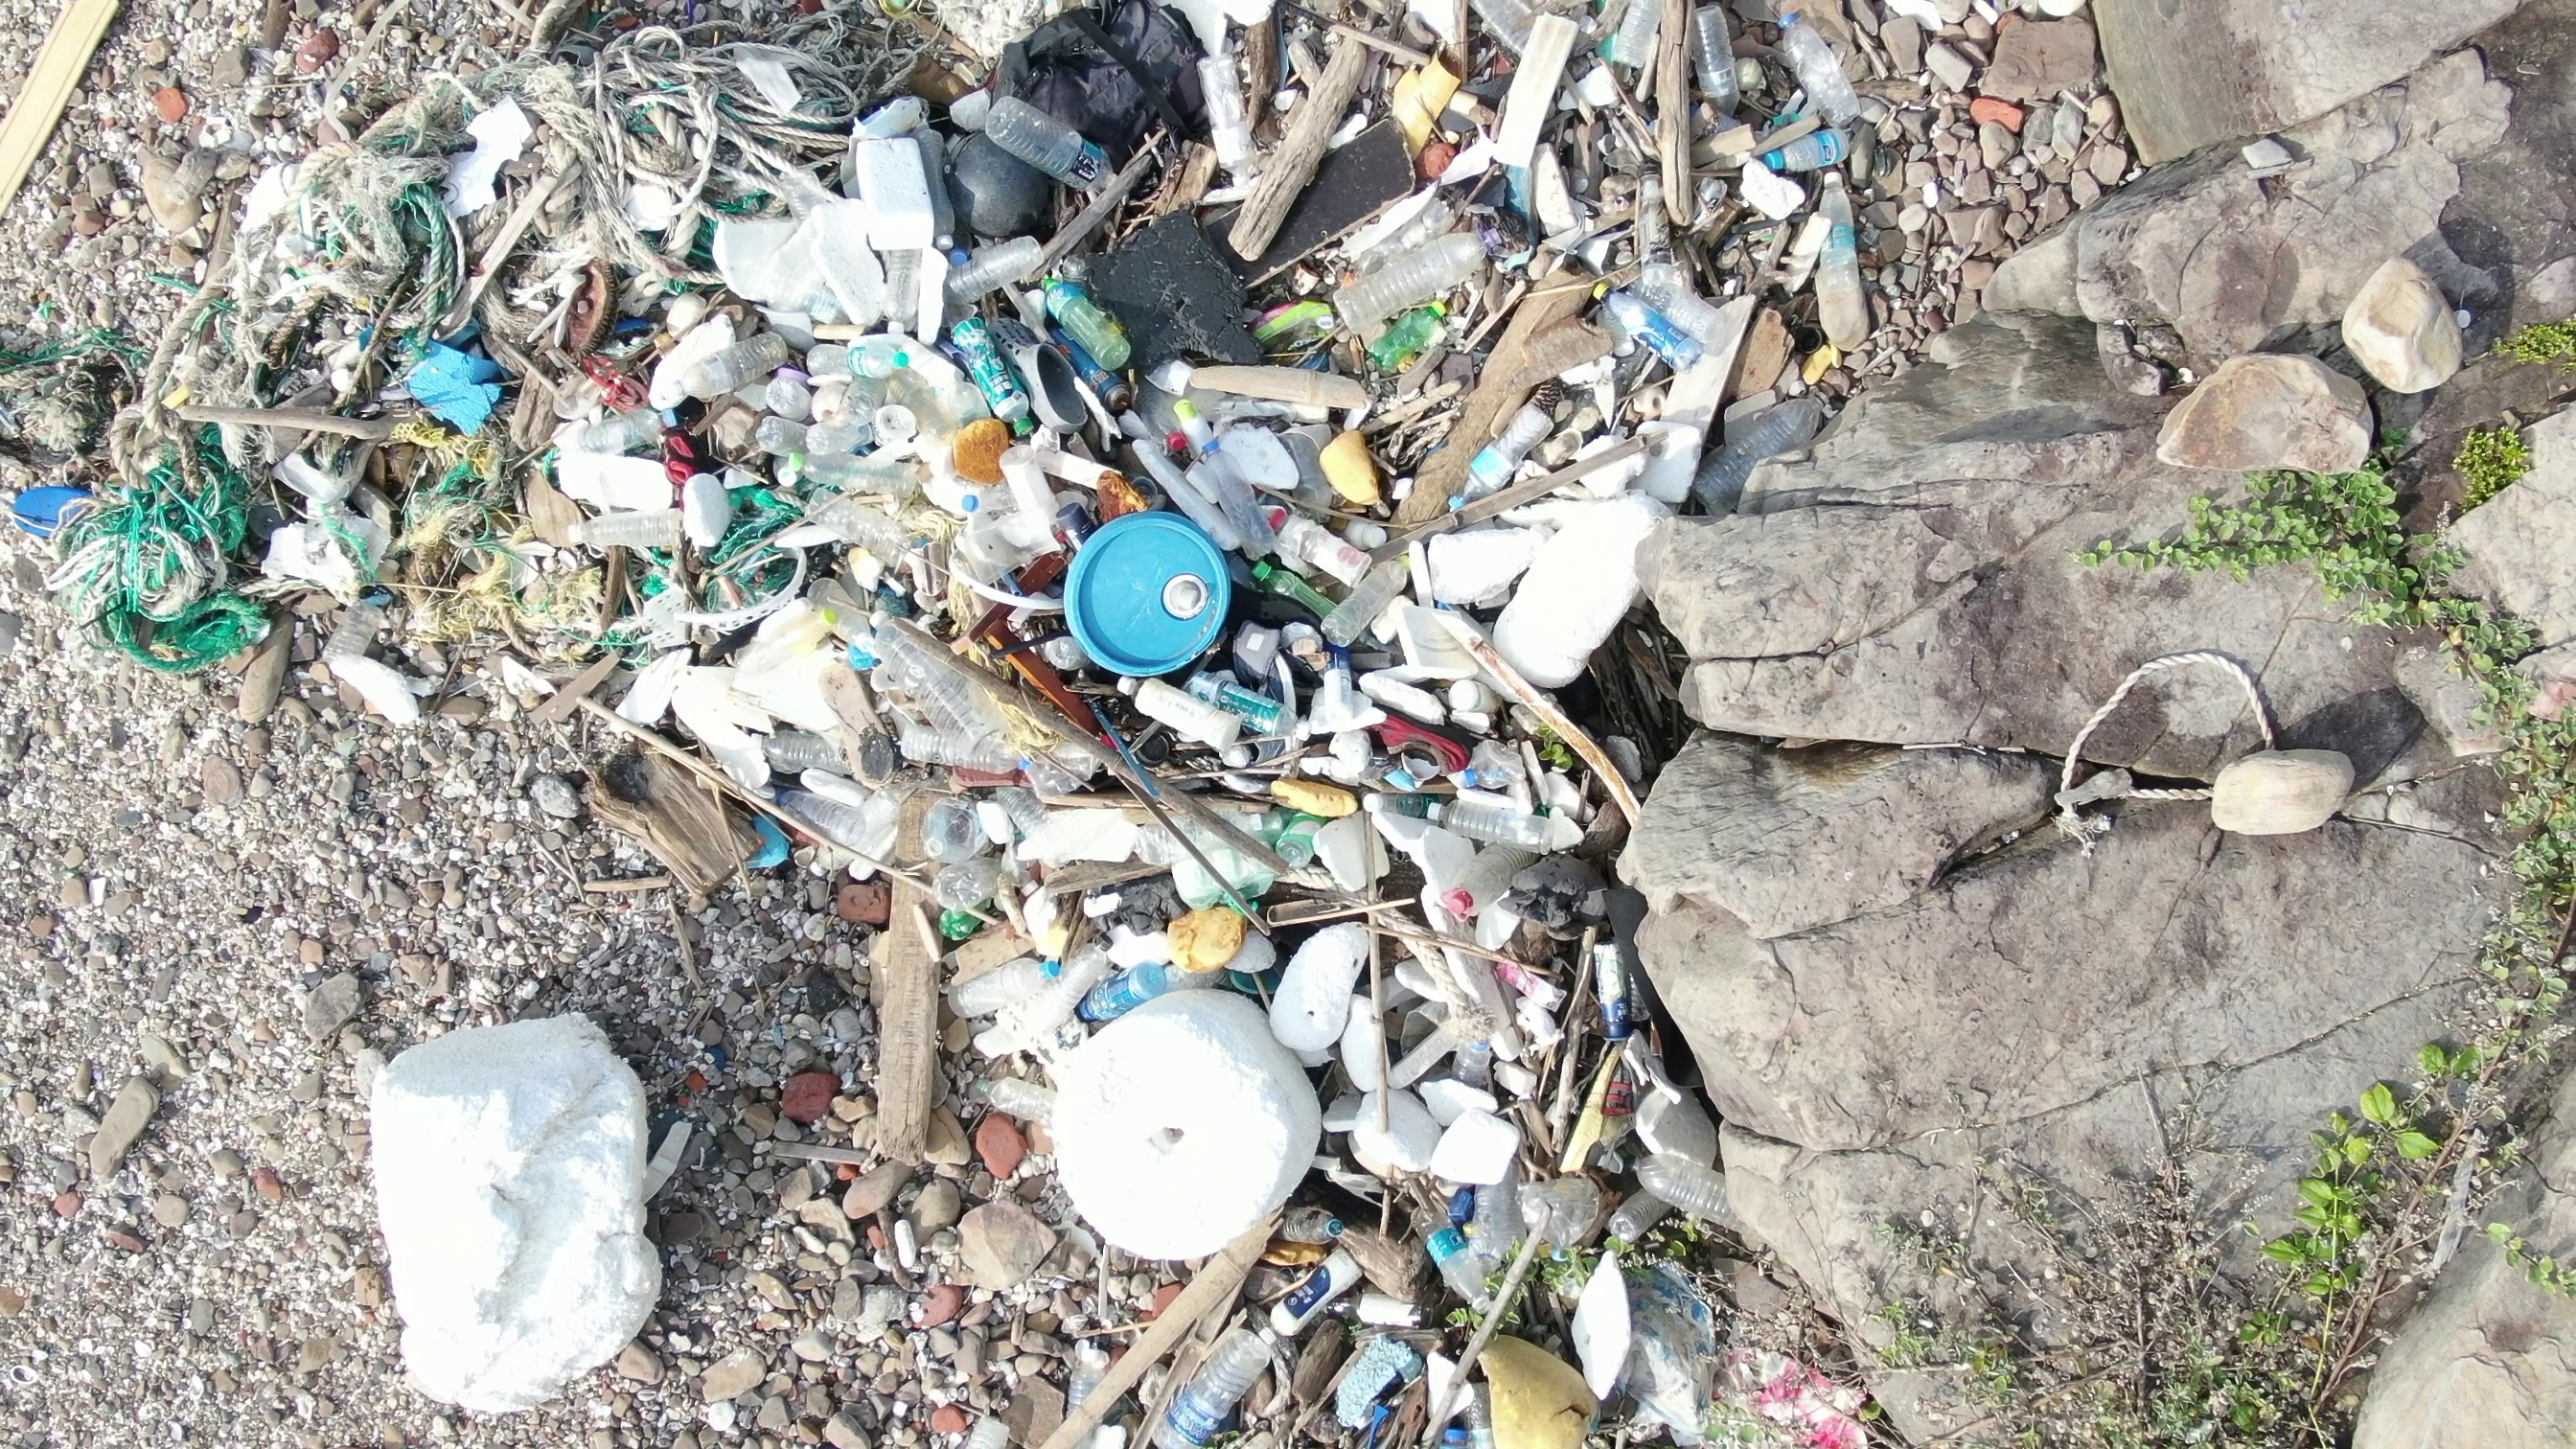bottle: (1679, 372, 1851, 513), (1330, 216, 1518, 315), (982, 90, 1118, 198), (1619, 1145, 1759, 1249), (1157, 1325, 1274, 1447), (945, 313, 1037, 446), (1106, 671, 1249, 755), (1456, 402, 1564, 511), (1394, 1196, 1499, 1307), (1037, 269, 1141, 377), (1773, 9, 1867, 127), (1198, 425, 1274, 568), (1583, 274, 1697, 366), (1684, 2, 1764, 131), (948, 948, 1085, 1023), (676, 327, 796, 409), (1322, 547, 1417, 648), (1810, 175, 1868, 338), (1361, 295, 1467, 380), (943, 234, 1054, 313), (1198, 53, 1260, 193), (1191, 669, 1309, 738), (1424, 796, 1564, 853), (876, 234, 929, 364), (1088, 955, 1184, 1026), (755, 724, 870, 780), (573, 402, 681, 462), (1253, 554, 1336, 630), (800, 336, 916, 386), (1263, 506, 1353, 570), (561, 511, 681, 557), (1438, 855, 1518, 924), (1773, 127, 1865, 177), (1274, 814, 1318, 876)
garbage: (5, 37, 1877, 602), (423, 602, 1679, 1065), (1008, 1077, 1753, 1449)
